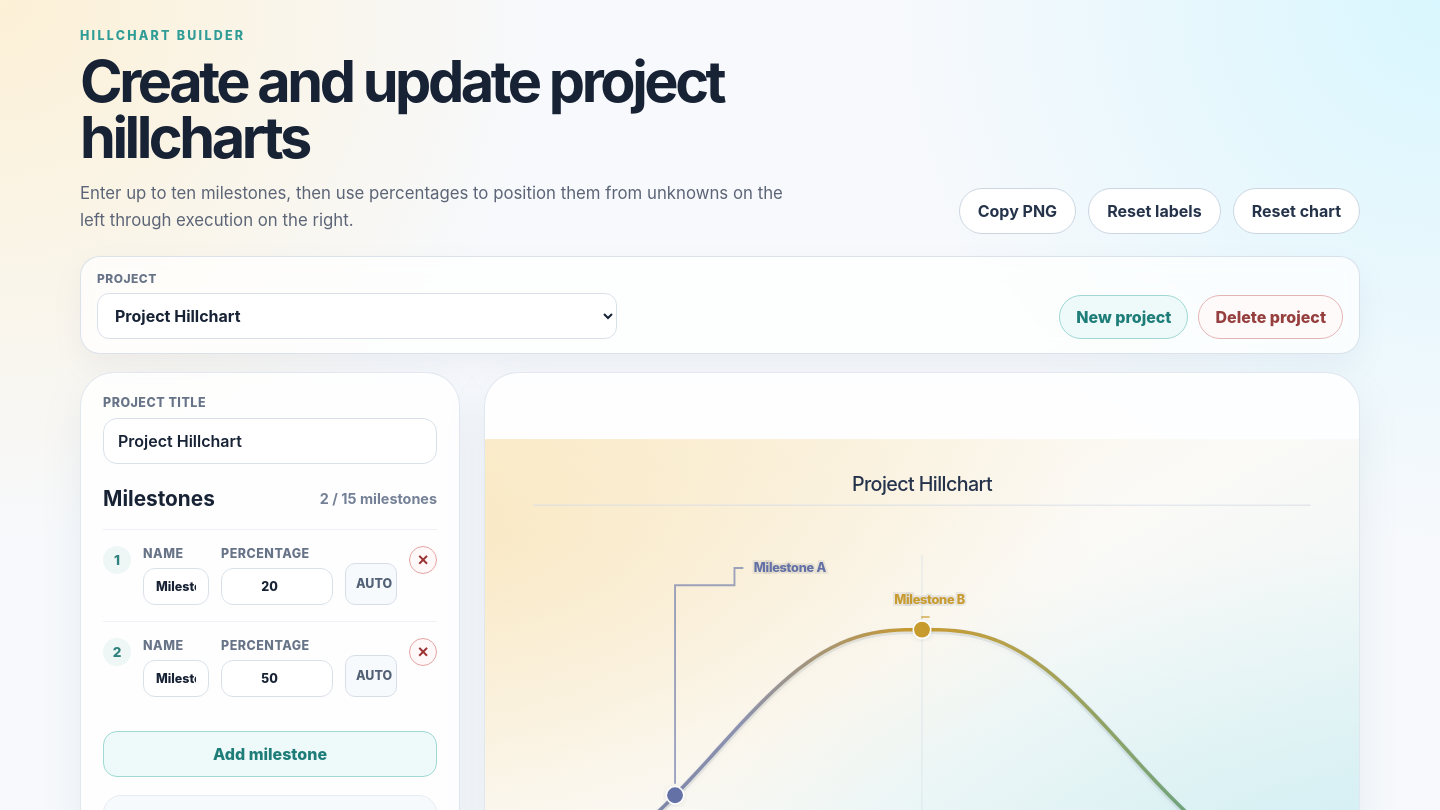
App › resets all manual label overrides with one action
Click the button "Reset labels". click: click(1154, 211)
box: [1088, 188, 1221, 234]
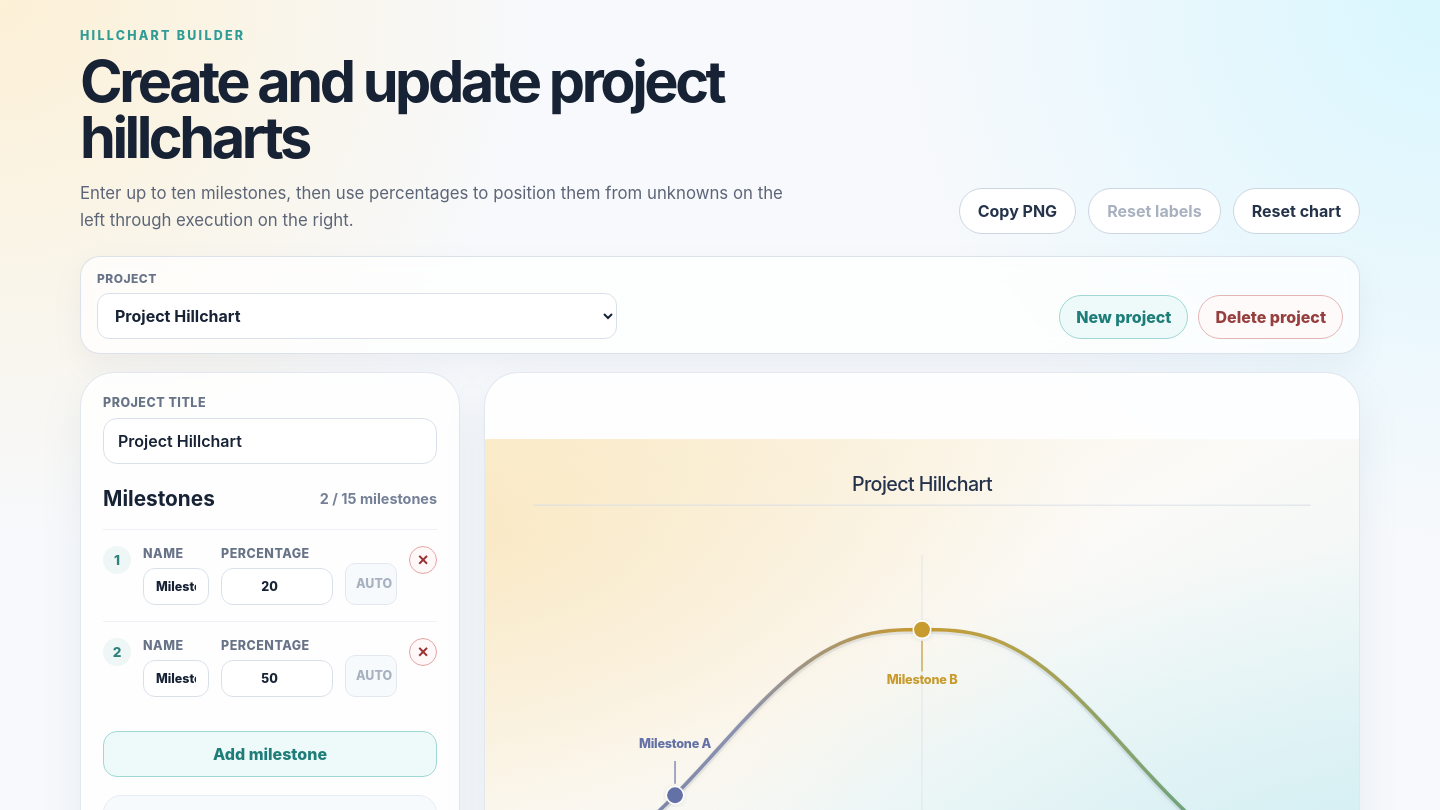
Now the button with aria-label "Reset label position for milestone 1" is disabled, box [345, 563, 397, 605]
Now the button with aria-label "Reset label position for milestone 2" is disabled, box [345, 655, 397, 697]
